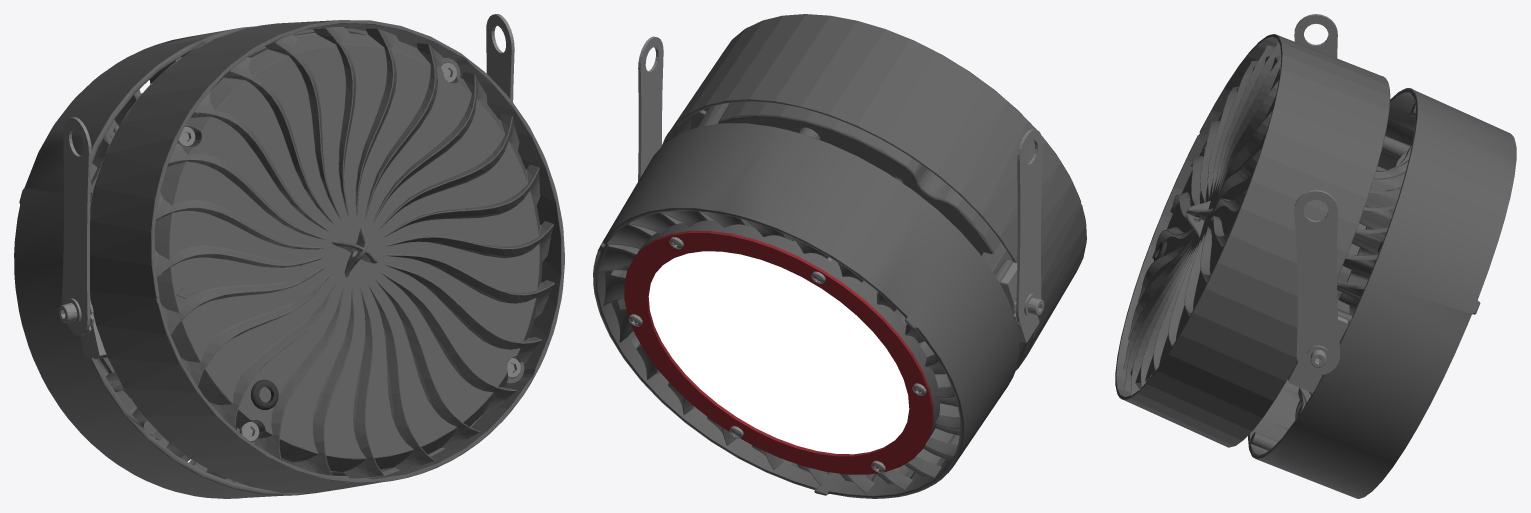
Rendered from L-industry-ll.glb.
3 views of the same model, side by side, from view 1: azimuth 30°, elevation 25°; view 2: azimuth 150°, elevation 25°; view 3: azimuth 270°, elevation 25° (orthographic). The views are drawn at different scales.
Visible parts, largest first — view 1: Êîðïóñ001; view 2: Êîðïóñ001; view 3: Êîðïóñ001.
Part boxes in pixels (bbox=[...]): Êîðïóñ001: bbox=[14, 14, 564, 498]; Êîðïóñ001: bbox=[593, 14, 1086, 498]; Êîðïóñ001: bbox=[1115, 14, 1516, 498].
Bounding box in the file's own units: 0.2199 × 0.2332 × 0.1995.
